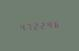four: (17, 21, 23, 32), (46, 19, 52, 29)
seven: (24, 21, 30, 31)
six: (53, 18, 59, 29)
two: (32, 20, 38, 31), (39, 20, 45, 30)
